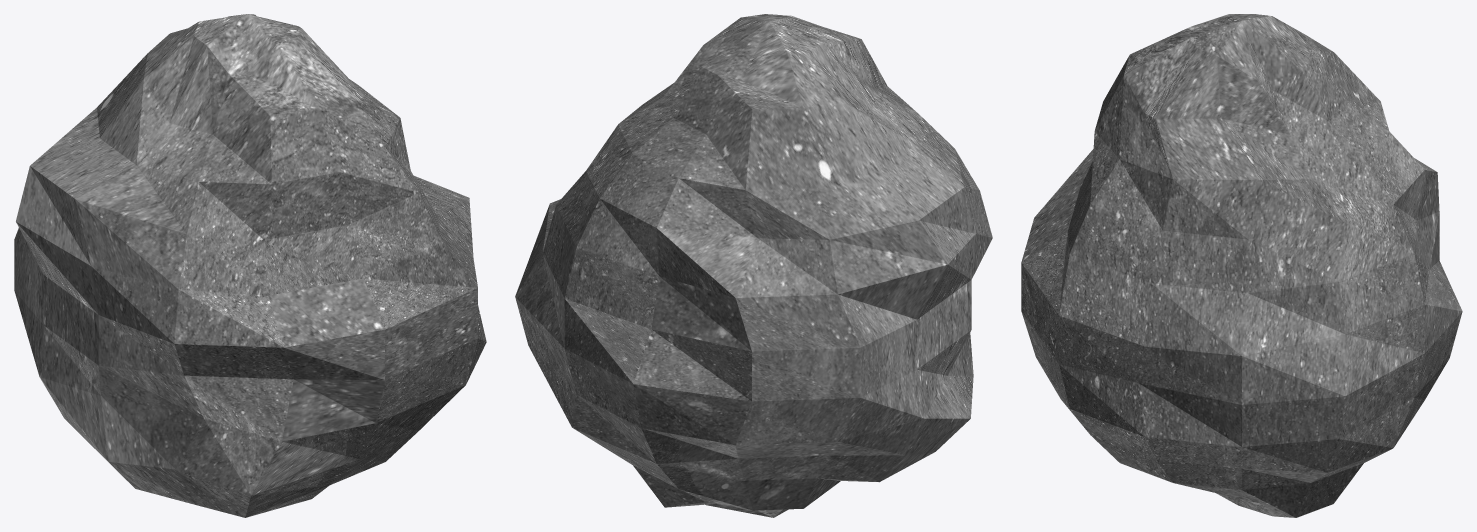
Rendered from asteroid.obj.
3 renders of one model, left to right at view 1: azimuth 30°, elevation 25°; view 2: azimuth 150°, elevation 25°; view 3: azimuth 270°, elevation 25°, orthographic. The views are drawn at different scales.
Visible parts, largest first — view 1: Sphere; view 2: Sphere; view 3: Sphere.
Boxes of the visible parts, bbox=[...] form: Sphere: bbox=[14, 14, 486, 517]; Sphere: bbox=[515, 14, 992, 517]; Sphere: bbox=[1021, 14, 1462, 517].
Bounding box in the file's own units: 2.14 × 2.39 × 1.97.
